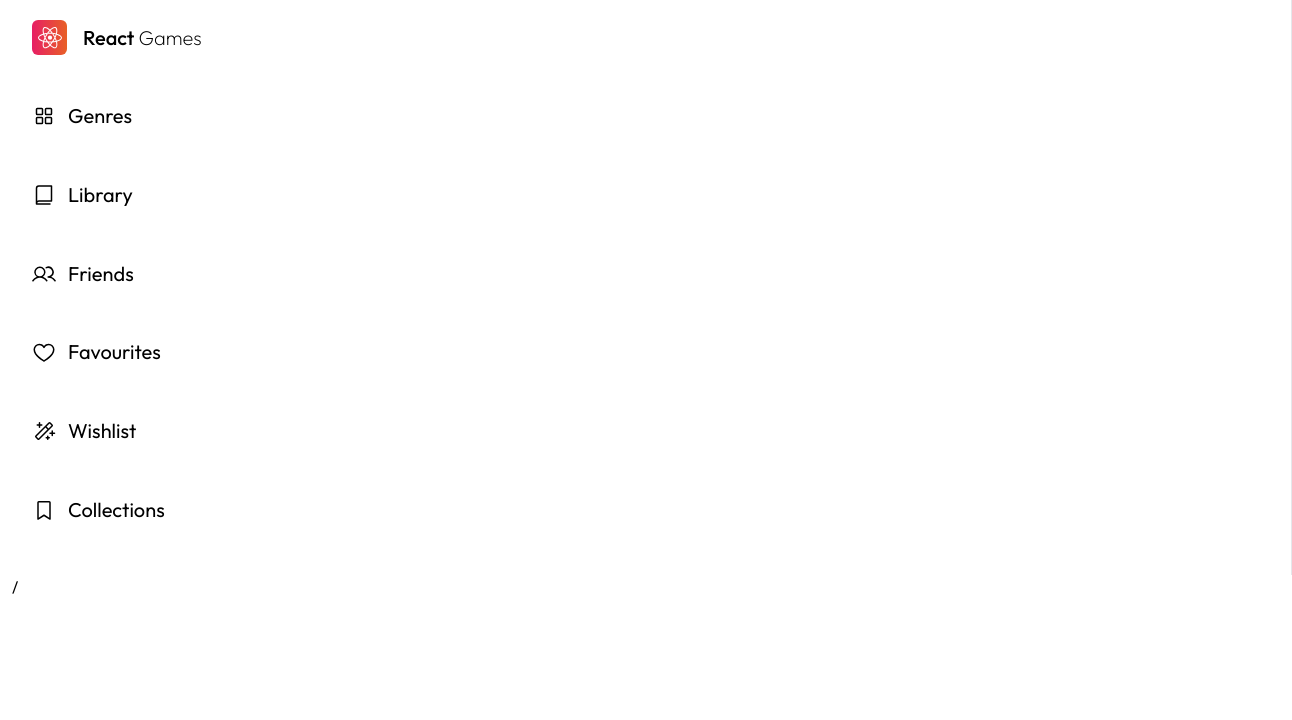
Test: SideBar Menu Tests › should navigate to relevant page on item click
The width and height of the screenshot is (1292, 720).
Check: the text with test id "location-display" reads "/", box left=12, top=577, right=18, bottom=597
Click the link "Genres".
click(82, 116)  # box left=32, top=103, right=132, bottom=128
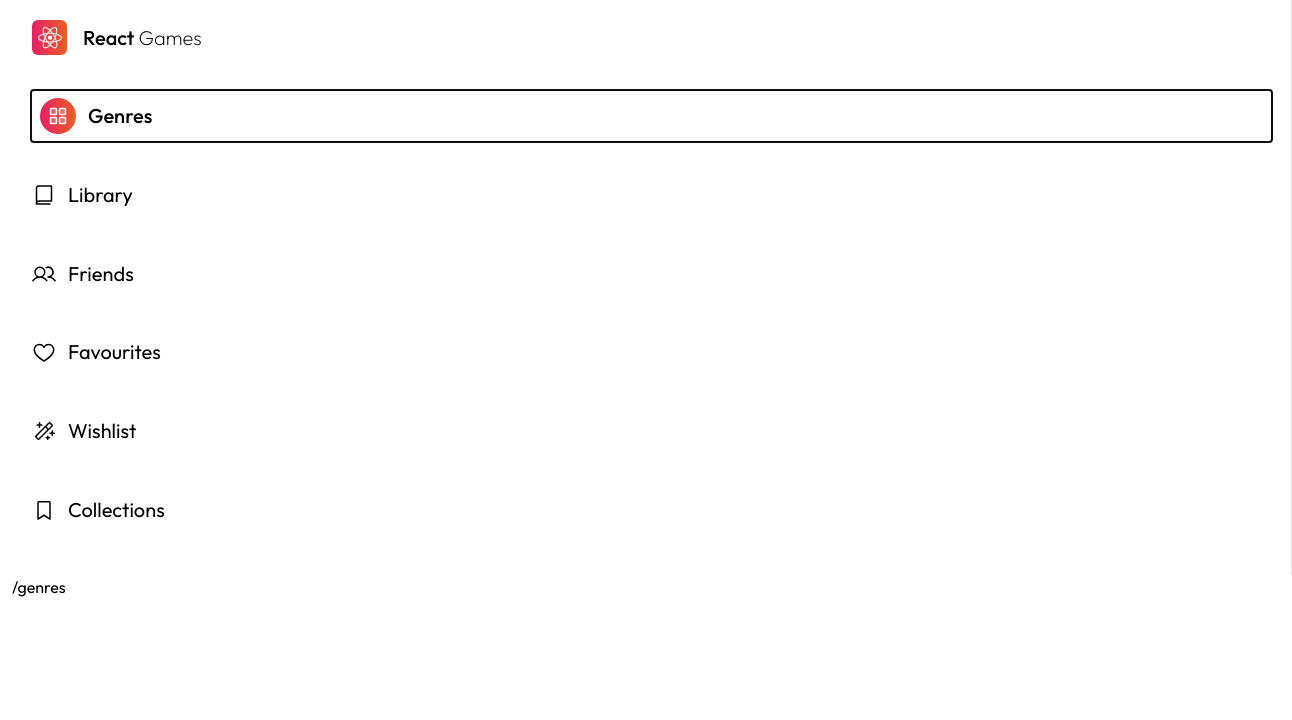
Check: the text with test id "location-display" reads "/genres", box left=12, top=577, right=66, bottom=597
Click the link "Library".
click(82, 194)  # box left=32, top=182, right=133, bottom=207
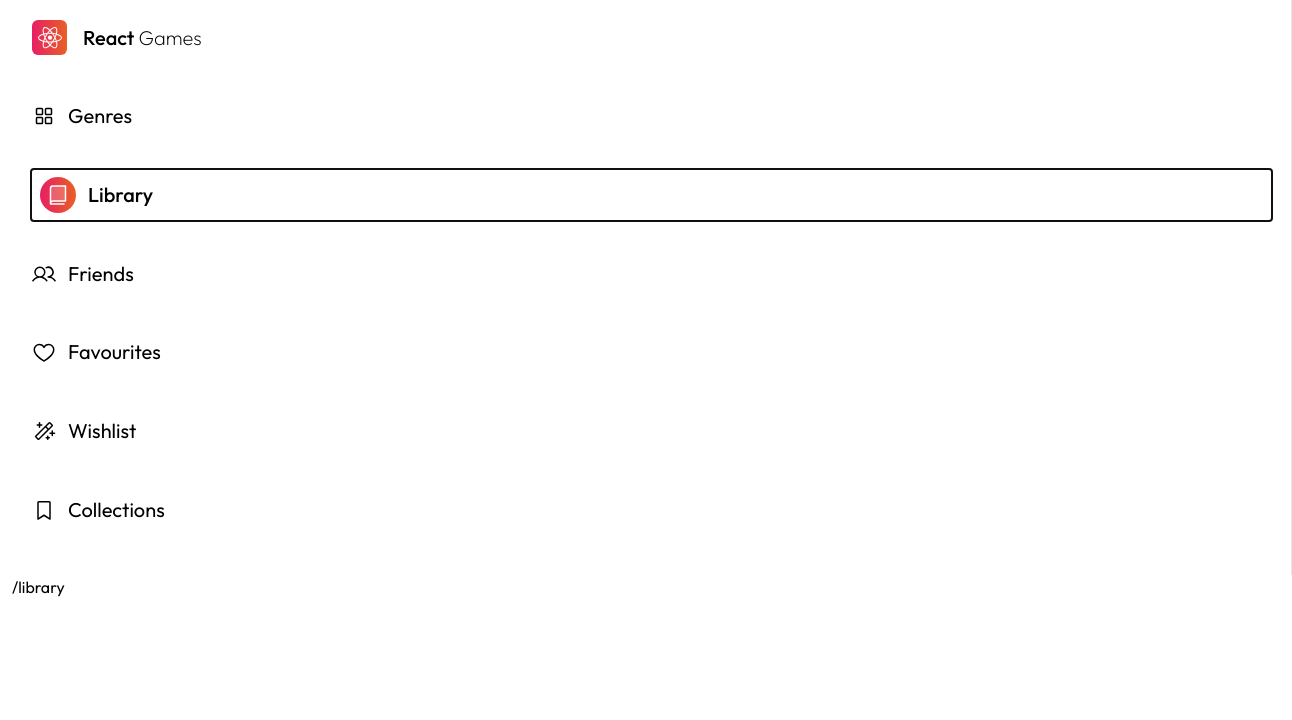
Check: the text with test id "location-display" reads "/library", box left=12, top=577, right=65, bottom=597
Click the link "Friends".
click(83, 273)  # box left=32, top=261, right=134, bottom=286
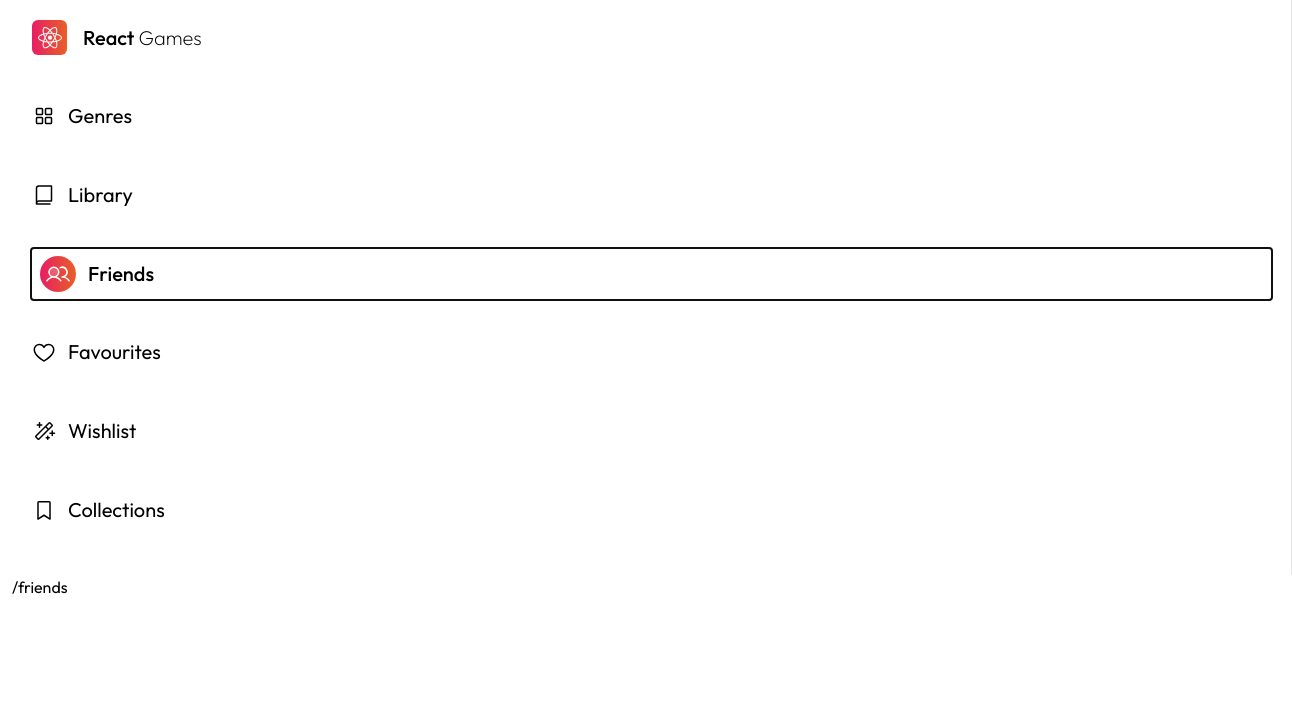
Check: the text with test id "location-display" reads "/friends", box left=12, top=577, right=68, bottom=597
Click the link "Favourites".
click(96, 352)  # box left=32, top=339, right=161, bottom=364
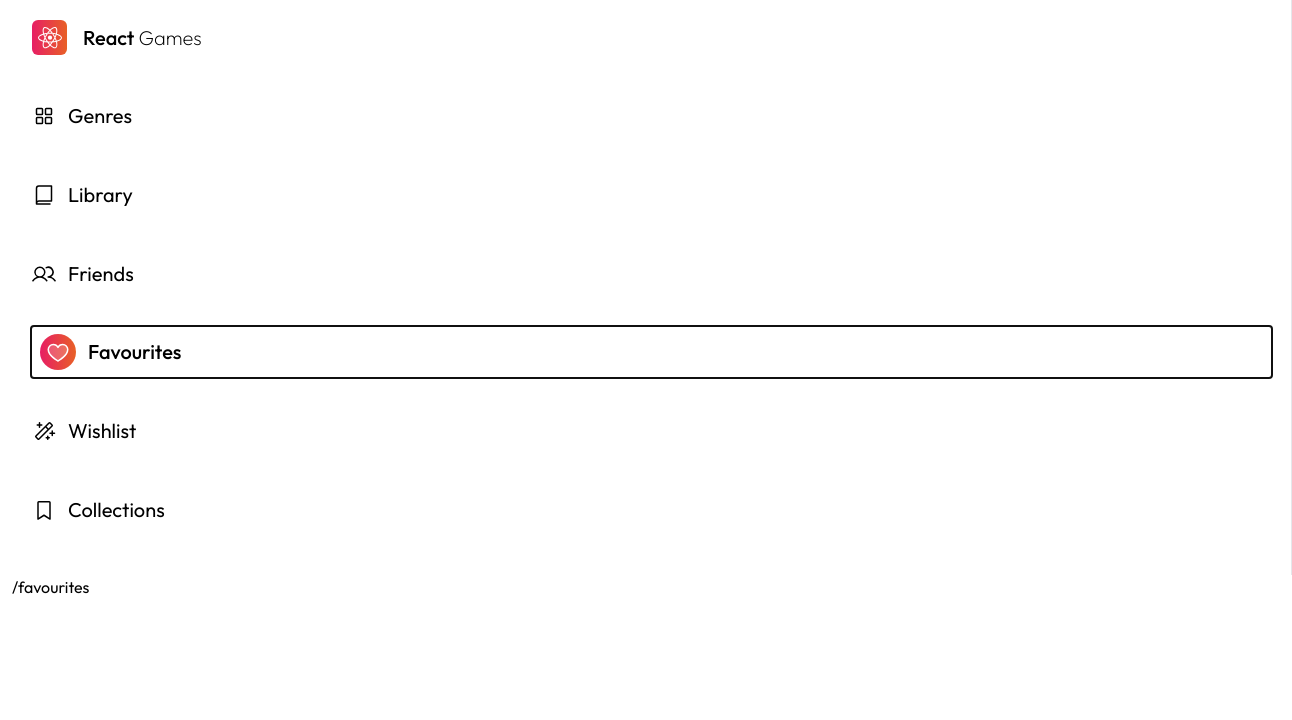
Check: the text with test id "location-display" reads "/favourites", box left=12, top=577, right=90, bottom=597
Click the link "Wishlist".
click(84, 431)  # box left=32, top=418, right=136, bottom=443
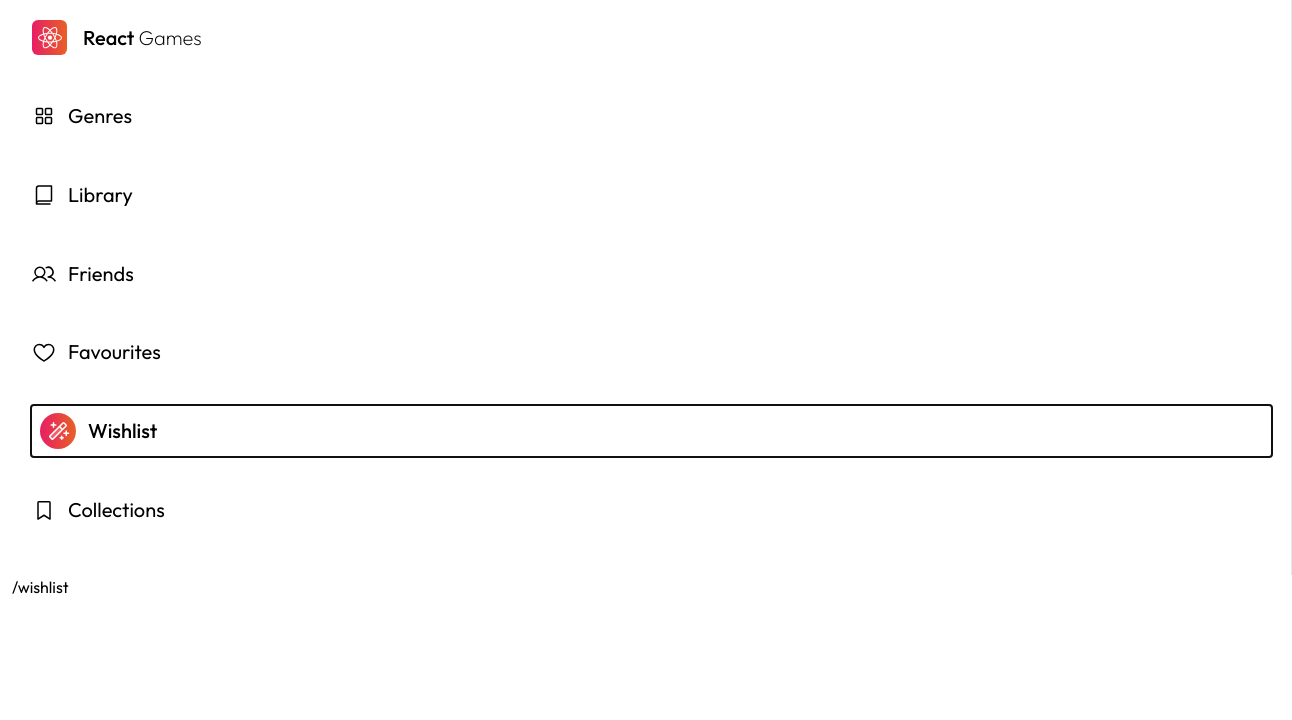
Check: the text with test id "location-display" reads "/wishlist", box left=12, top=577, right=69, bottom=597
Click the link "Collections".
click(98, 510)  # box left=32, top=497, right=165, bottom=522
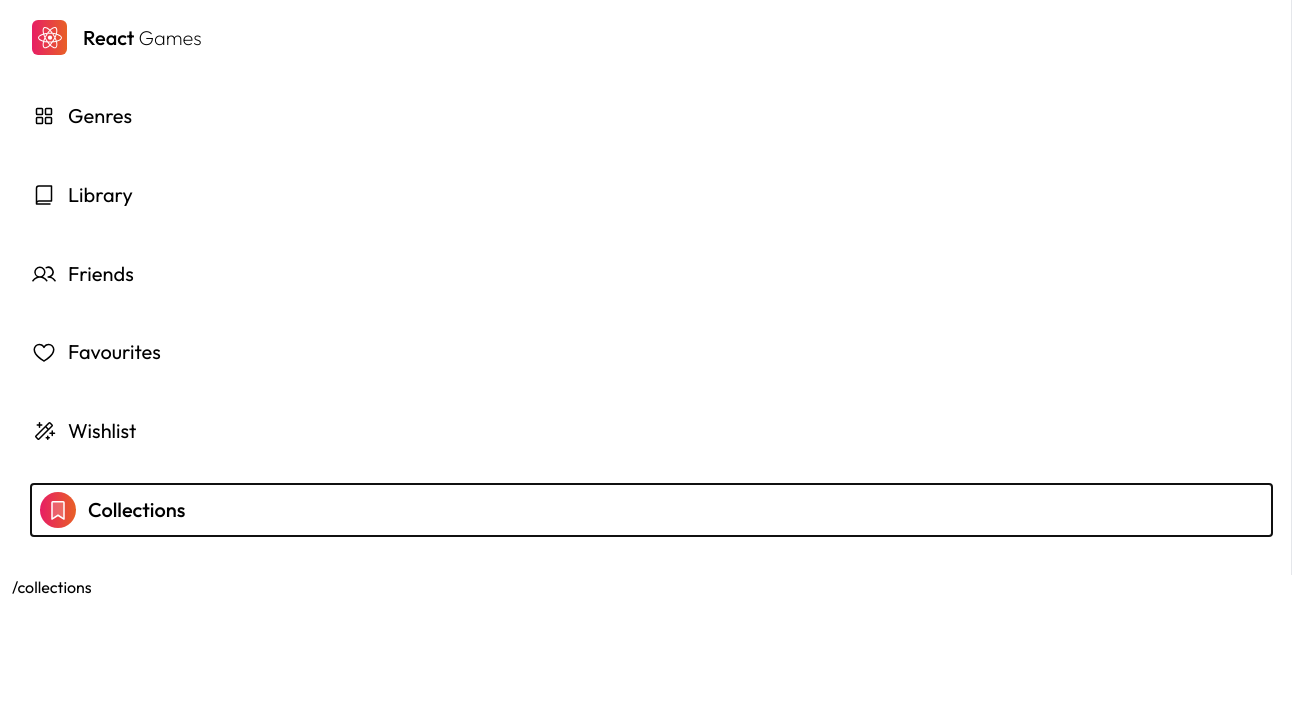
Check: the text with test id "location-display" reads "/collections", box left=12, top=577, right=92, bottom=597
